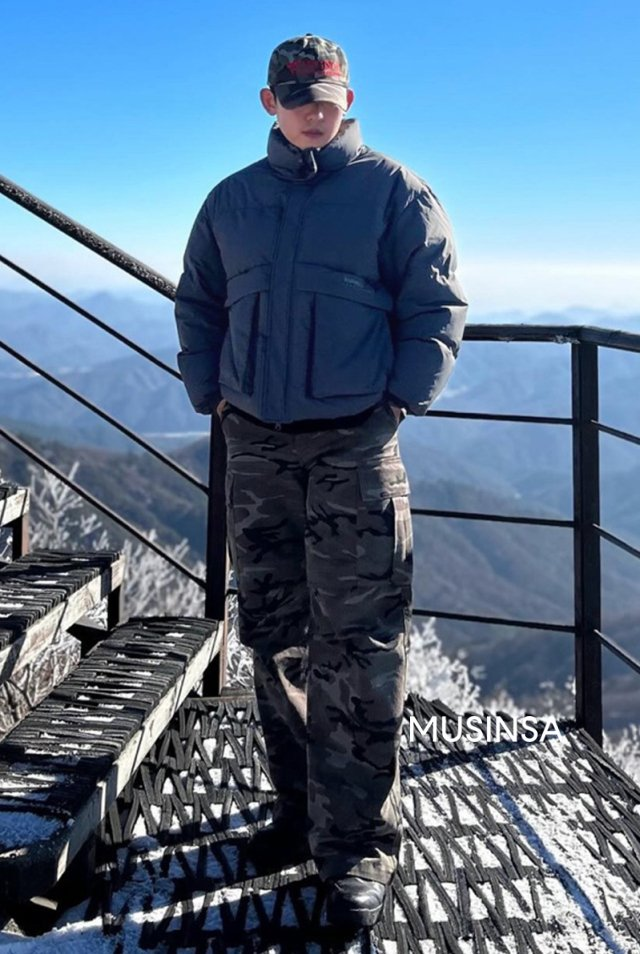Bubble jacket: (170, 118, 463, 426)
Cap: (265, 28, 352, 108)
Pants: (214, 404, 412, 879)
Shoes: (246, 807, 404, 926)
